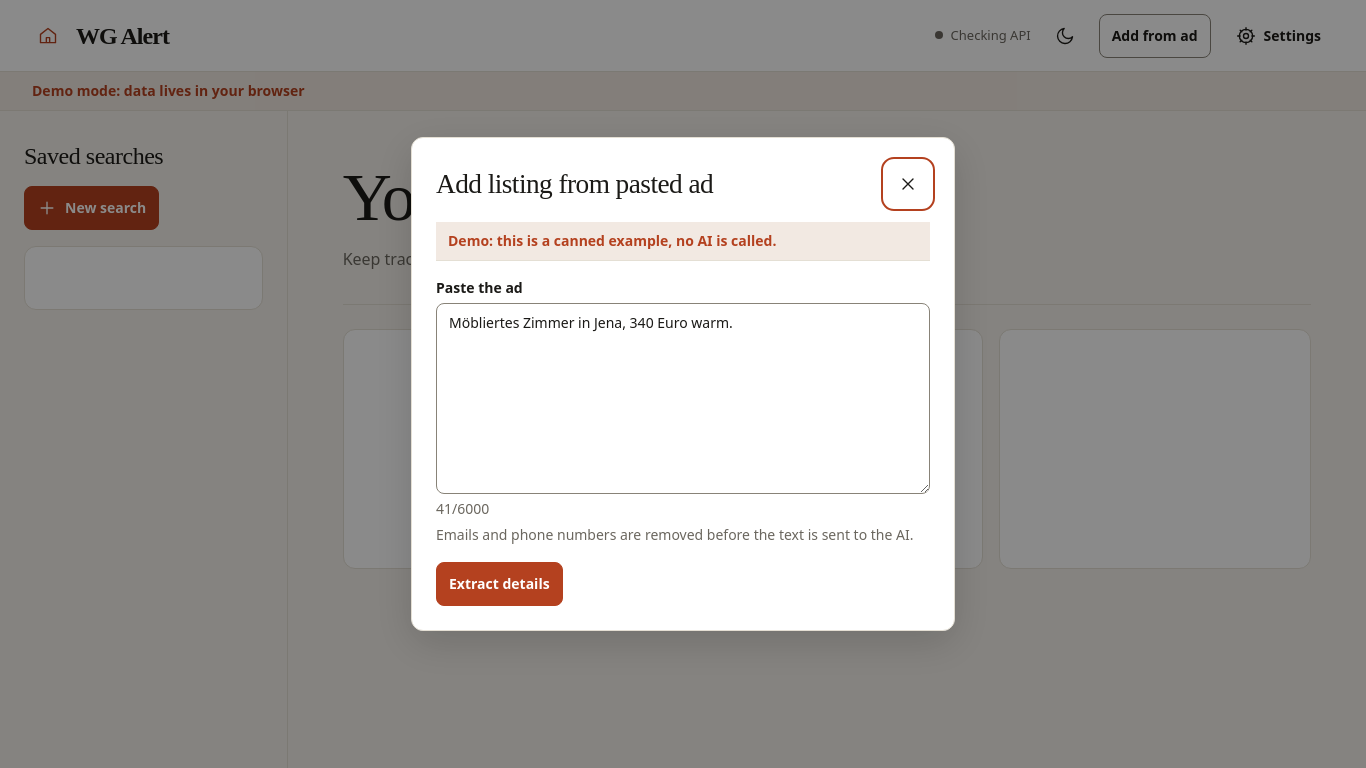
Test: deduplicates repeated pastes using the hash fallback without Web Crypto
The width and height of the screenshot is (1366, 768).
Earlier steps of the test are not shown.
Click the button "Extract details" at (499, 584), box [436,562,563,606]
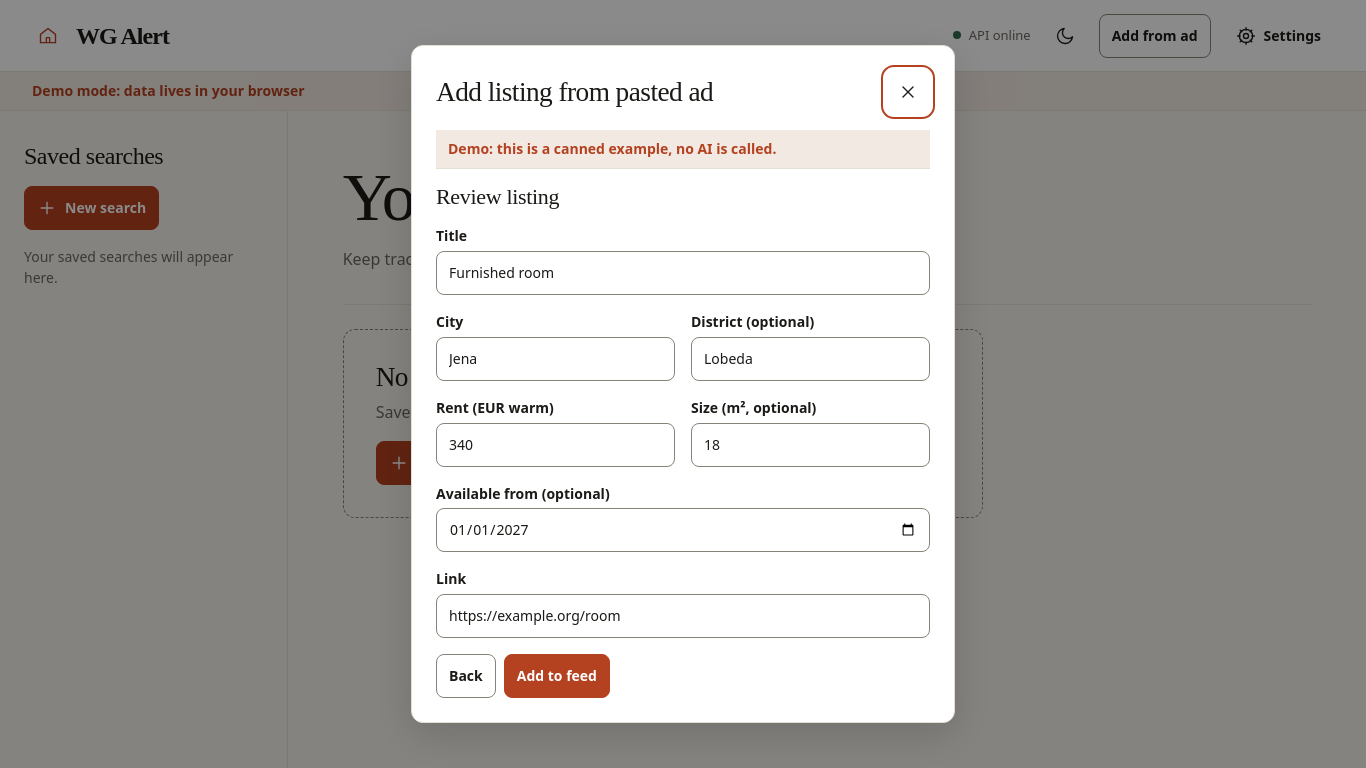
Click the button "Add to feed" at (557, 676), box [504,654,610,698]
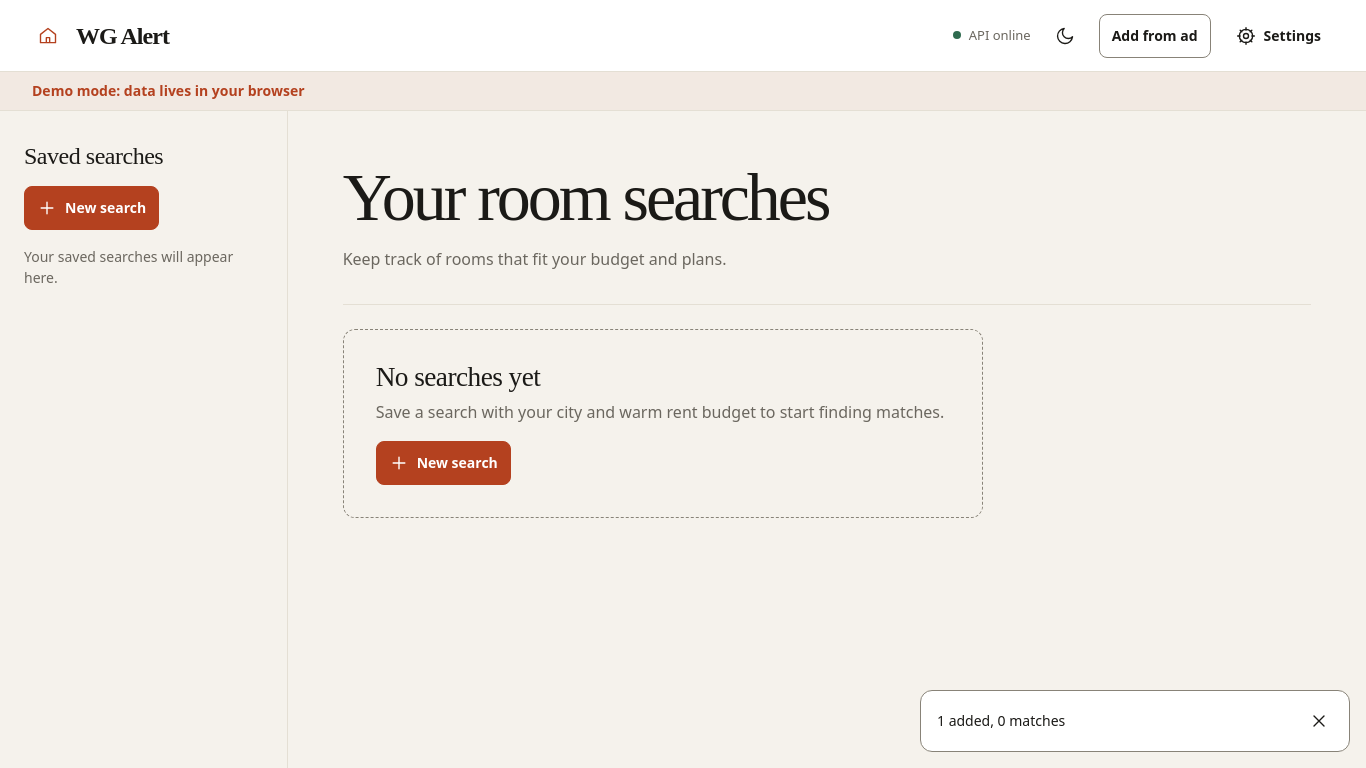
Expected: the text "1 added, 0 matches" is shown, [937,711,1065,730]
Click the button "Add from ad" at (1155, 36), box [1099,14,1211,58]
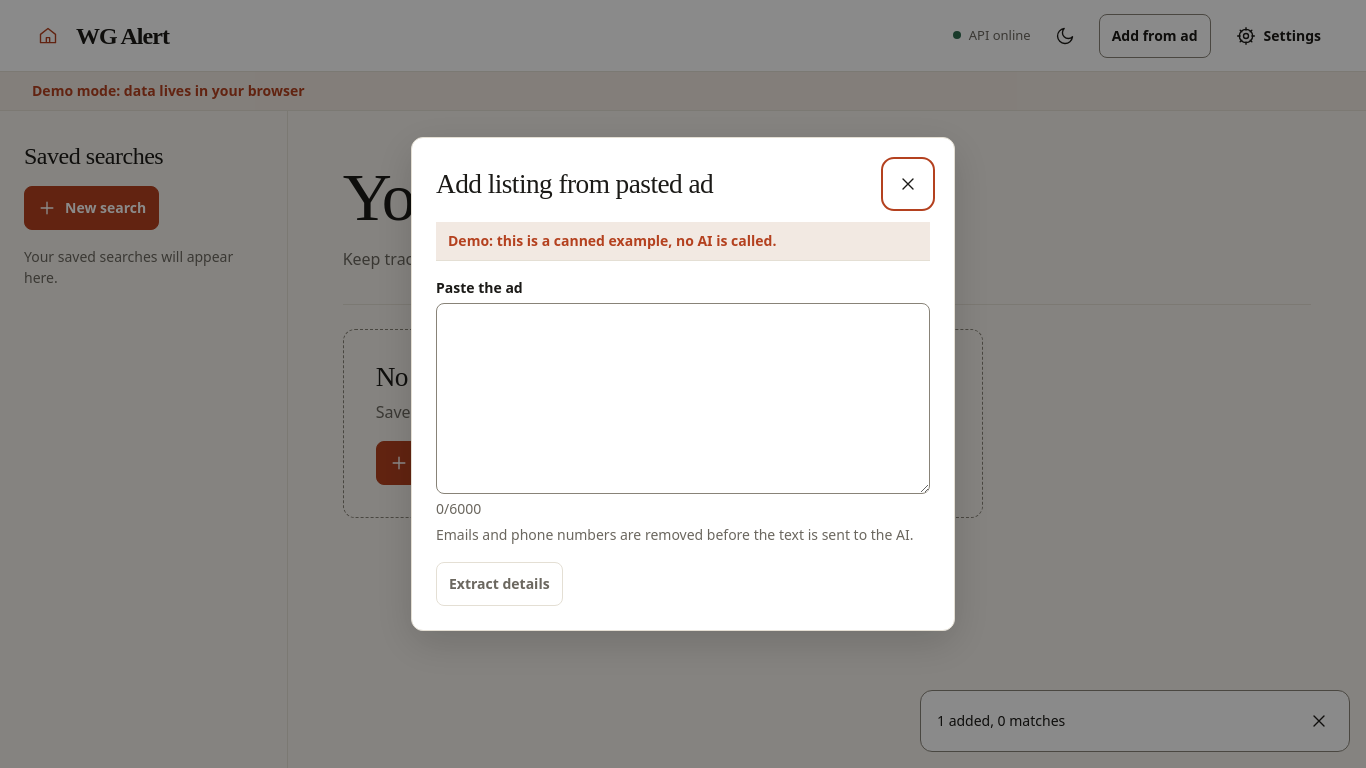
Type "Möbliertes Zimmer in Jena, 340 Euro warm." into the text box labelled "Paste the ad" at (683, 399), box [436,303,930,494]
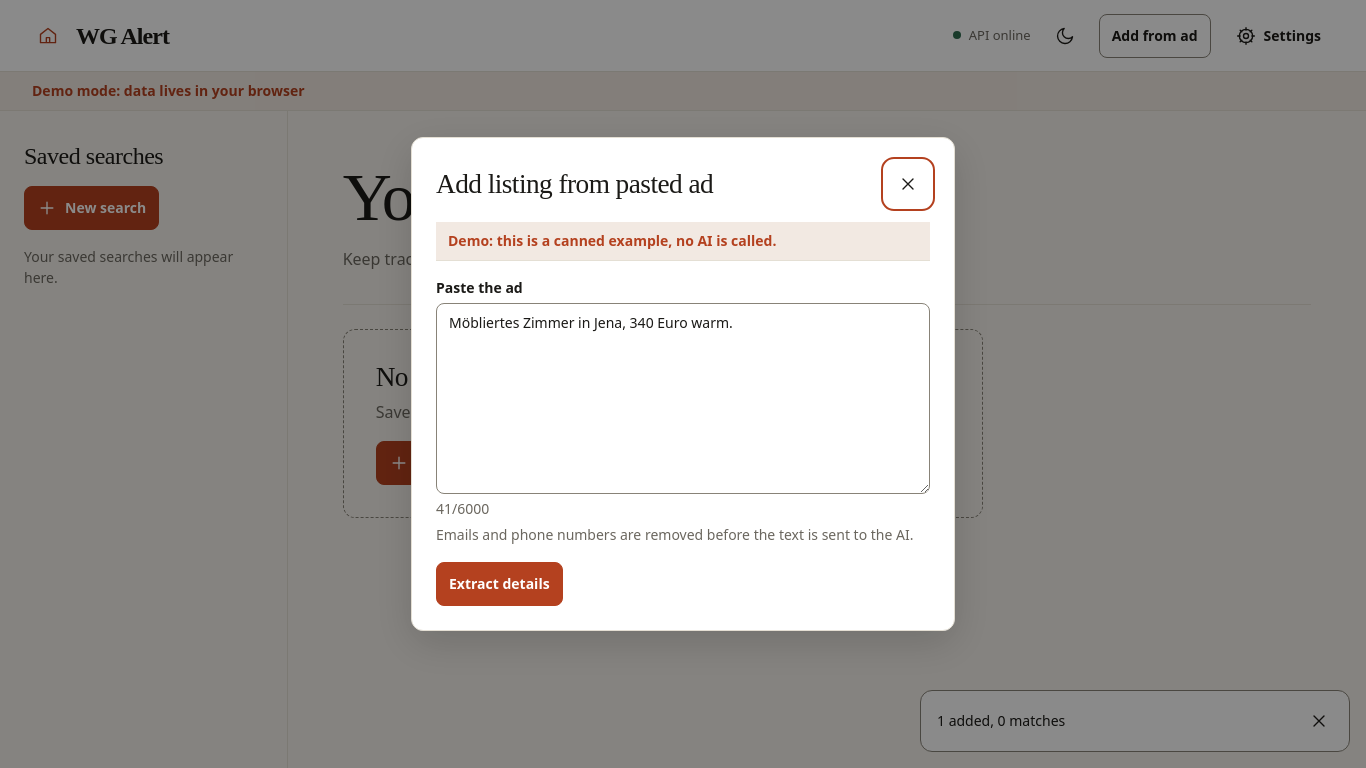
Click the button "Extract details" at (499, 584), box [436,562,563,606]
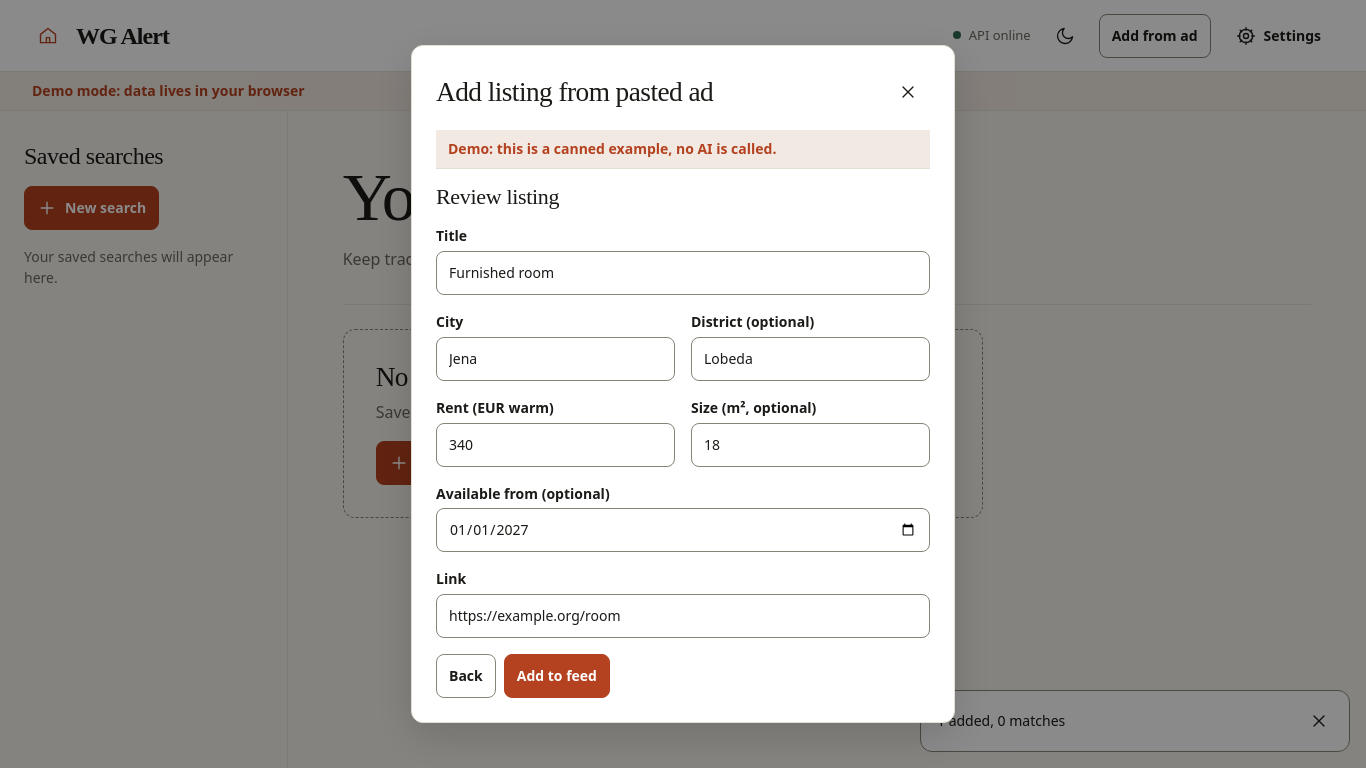
Click the button "Add to feed" at (557, 676), box [504,654,610,698]
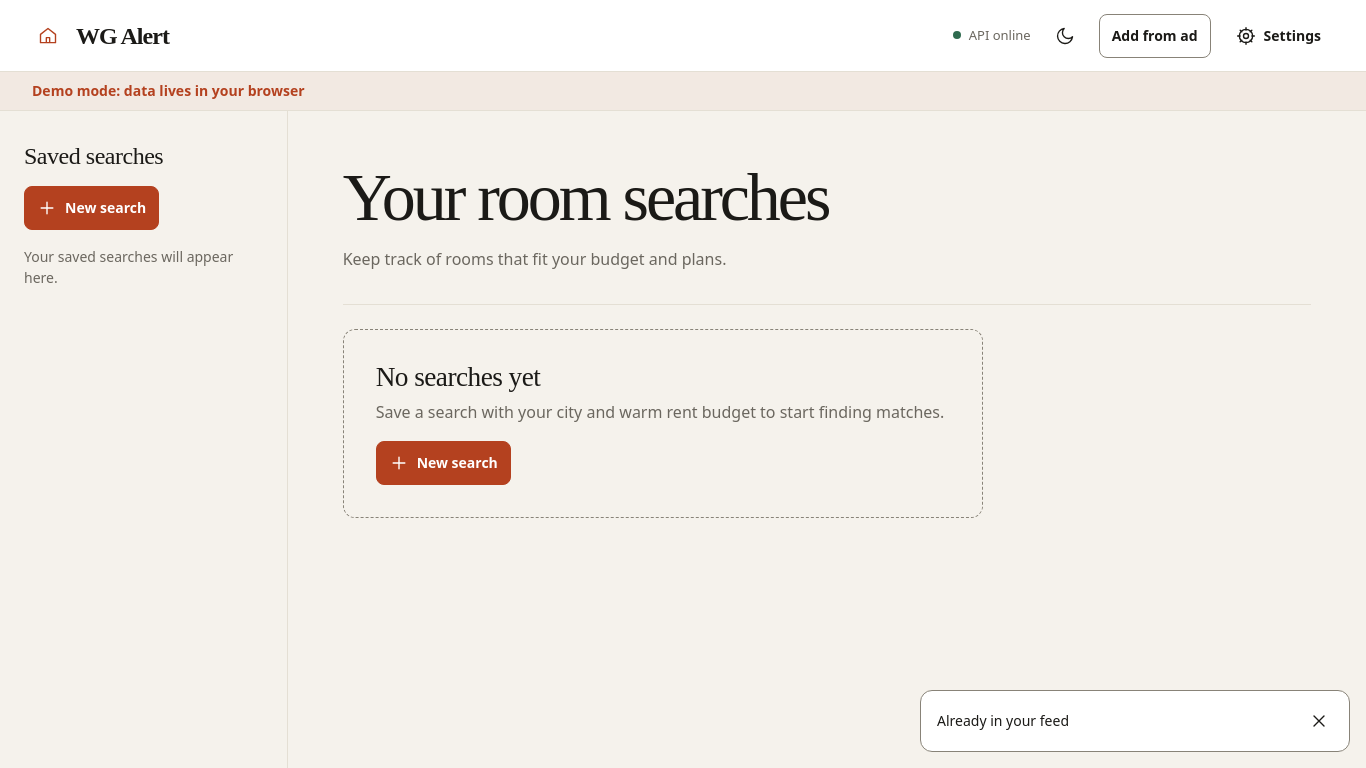
Expected: the text "Already in your feed" is shown, [937,711,1069,730]
Expected: the dialog is gone
